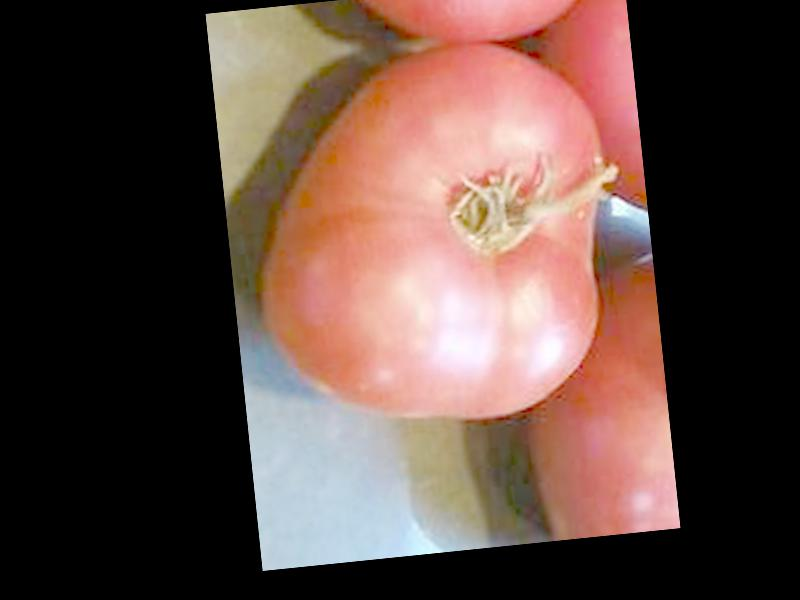Tomato: (241, 34, 626, 439)
